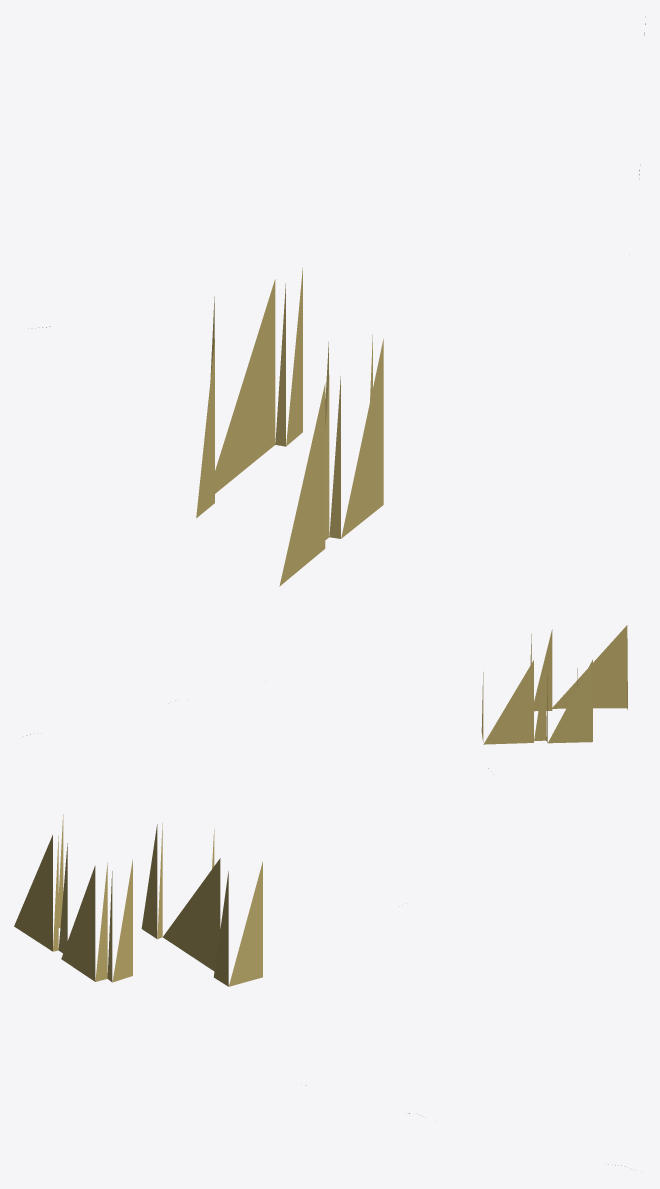
3 views of the same model, one above another, from view 1: azimuth 30°, elevation 25°; view 2: azimuth 150°, elevation 25°; view 3: azimuth 270°, elevation 25° (orthographic). The views are drawn at different scales.
Bounding box in the file's own units: 428 × 82.5 × 403.
